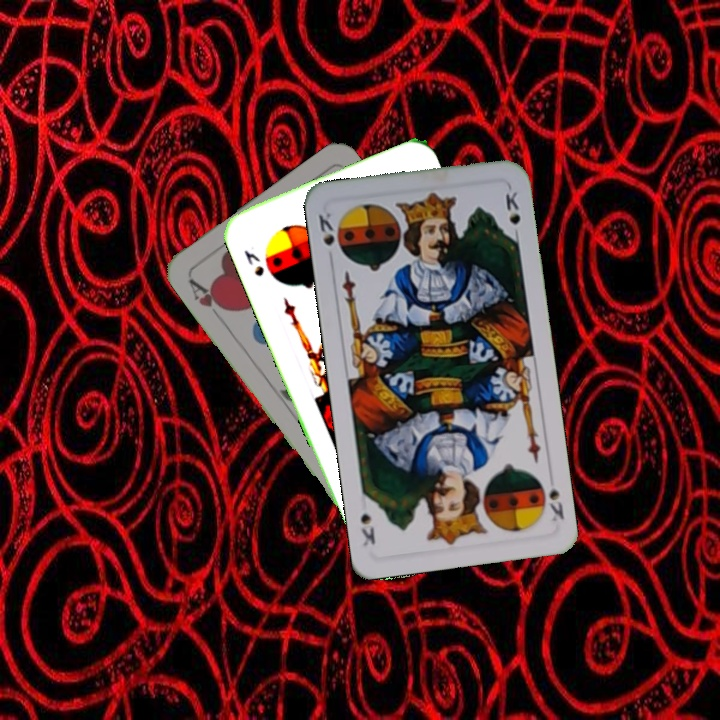HA: (184, 274, 231, 324)
SK: (314, 208, 337, 249), (239, 246, 267, 279), (545, 482, 567, 524)
